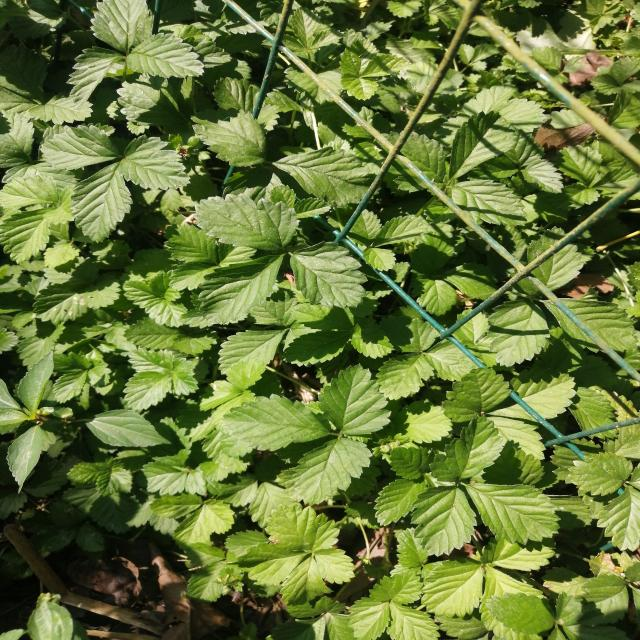Mock_strawberry: (145, 160, 384, 356), (196, 345, 442, 504)
